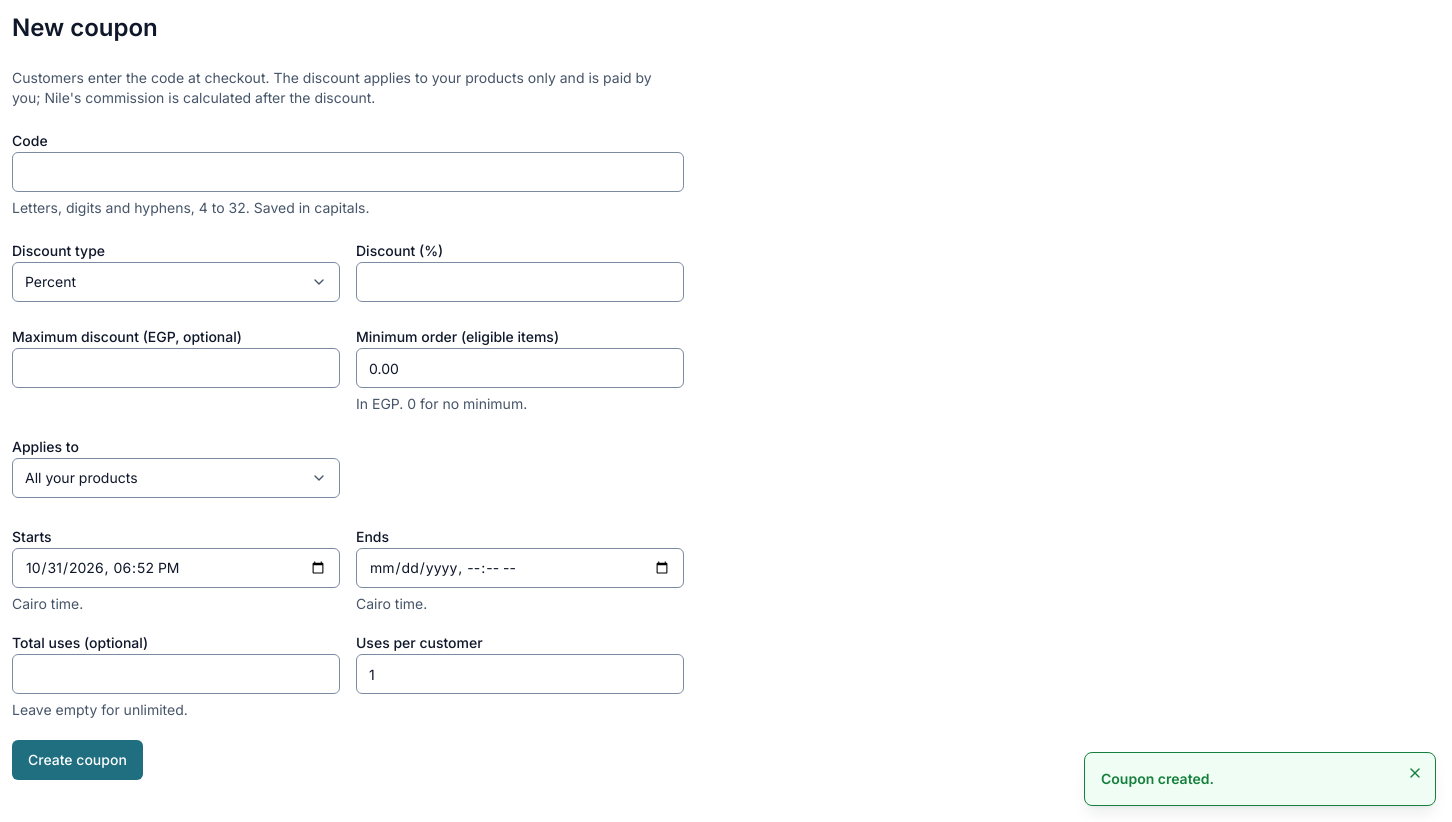
Test: new coupon (spec 02 SE-22) › COUPON_CODE_TAKEN lands on the code
The width and height of the screenshot is (1452, 822).
Type "TAKEN1" into the field labelled "Code" at (348, 172), box [12,152,684,192]
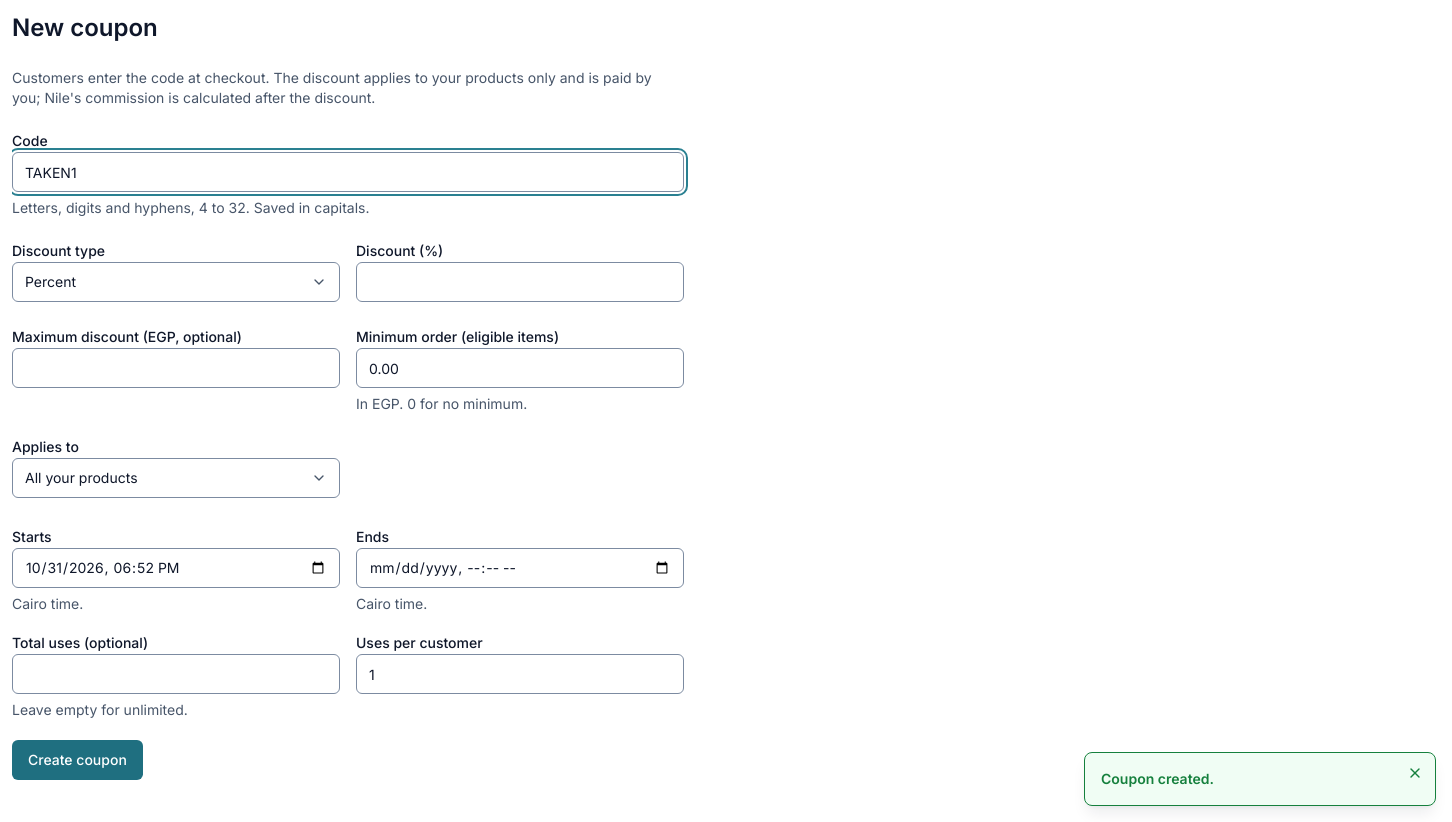
Type "10" into the field labelled "Discount (%)" at (520, 282), box [356,262,684,302]
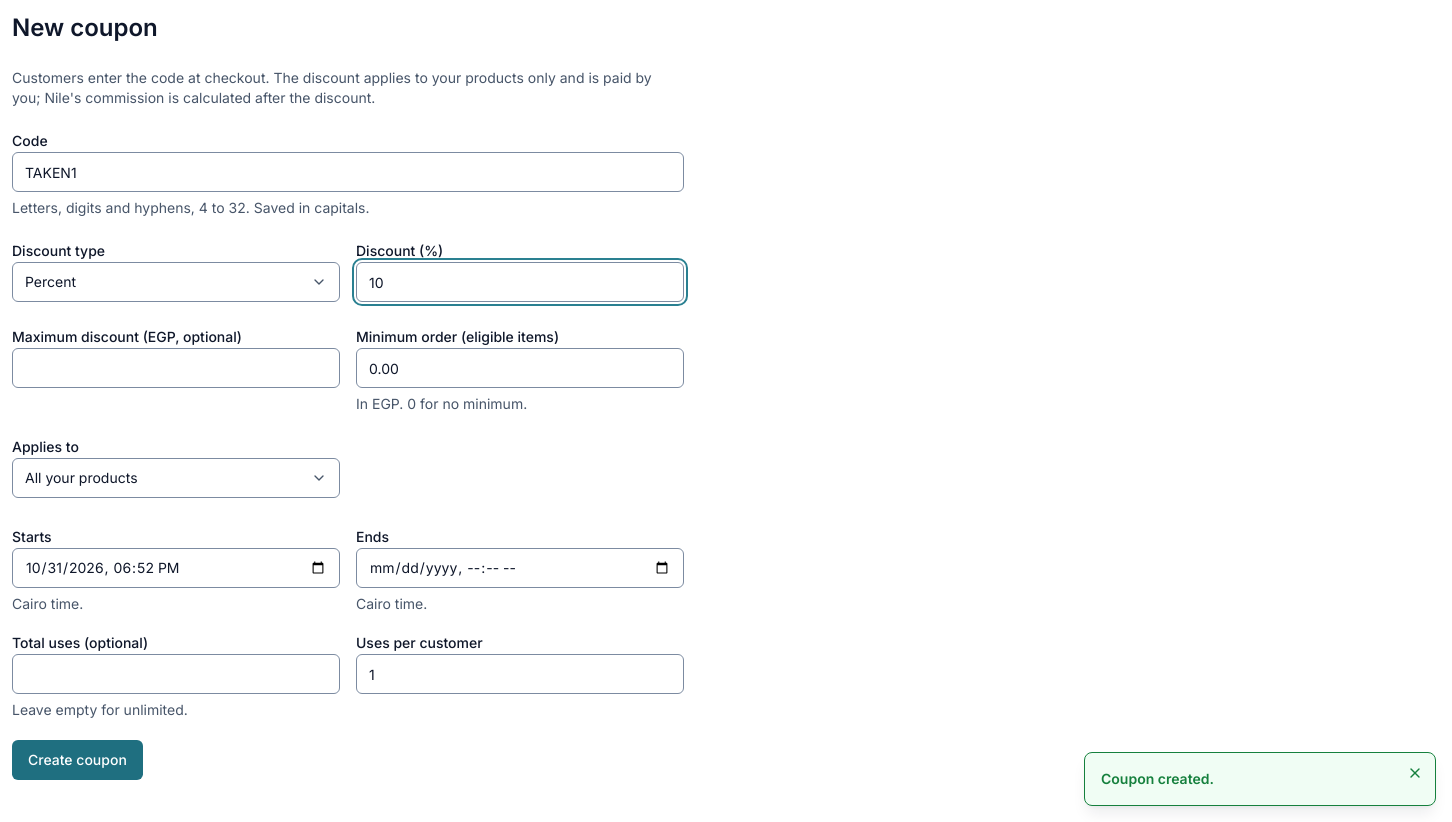
Type "2999-01-01T10:00" into the field labelled "Ends" at (520, 568), box [356,548,684,588]
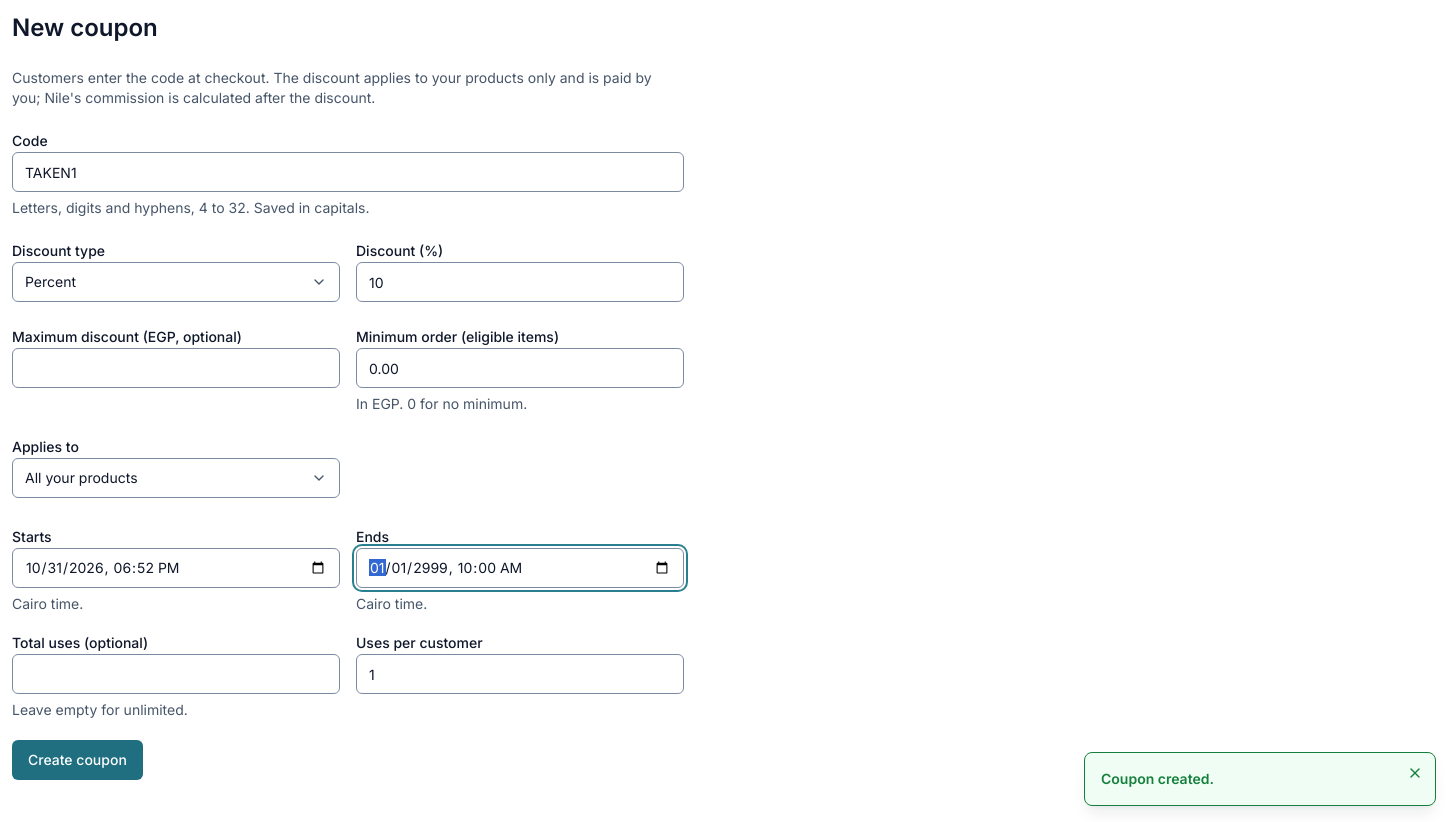
Click the button "Create coupon" at (77, 760), box [12,740,143,780]
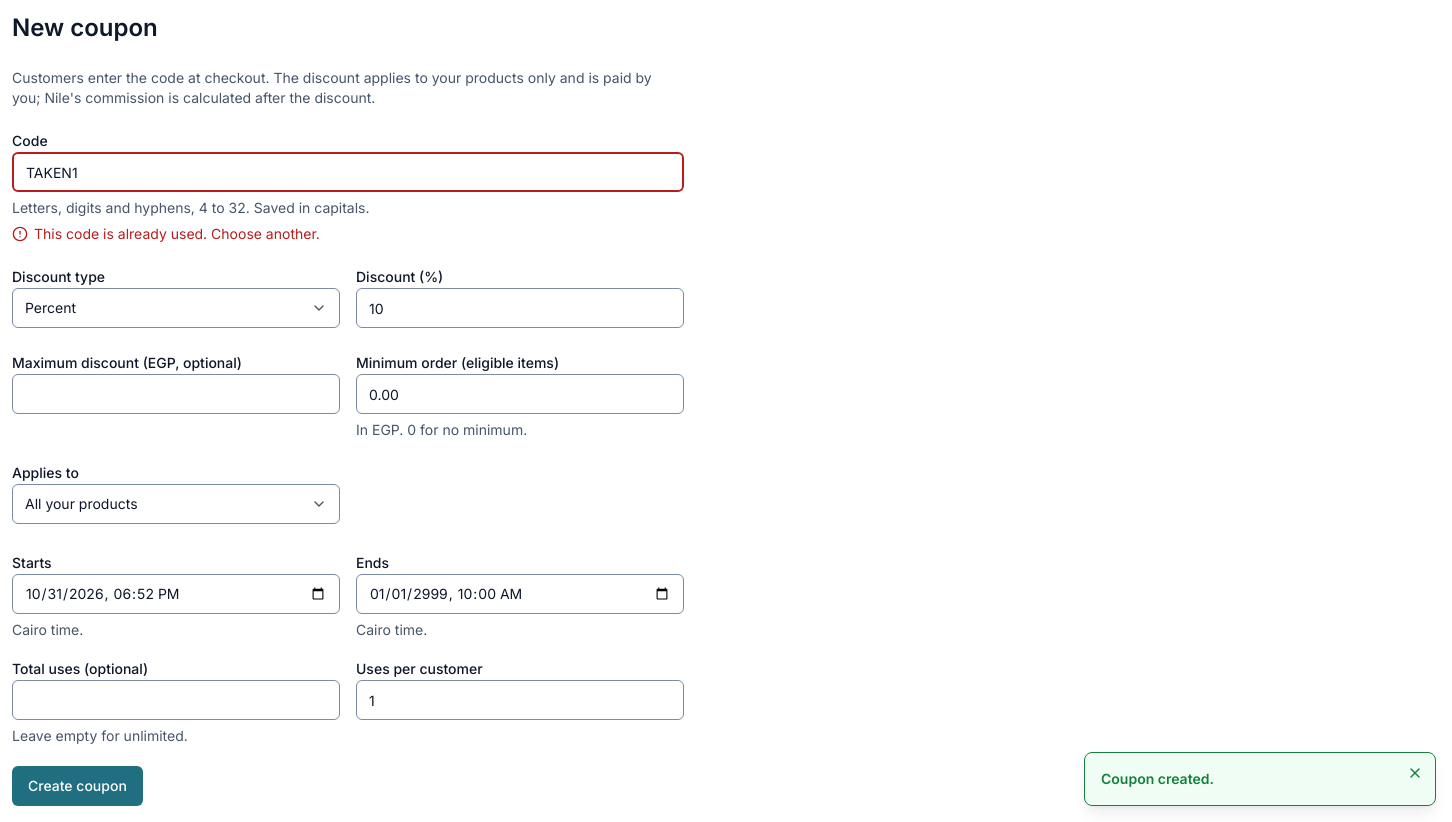
Now the text "This code is already used. Choose another." is shown, box [12,225,320,242]
